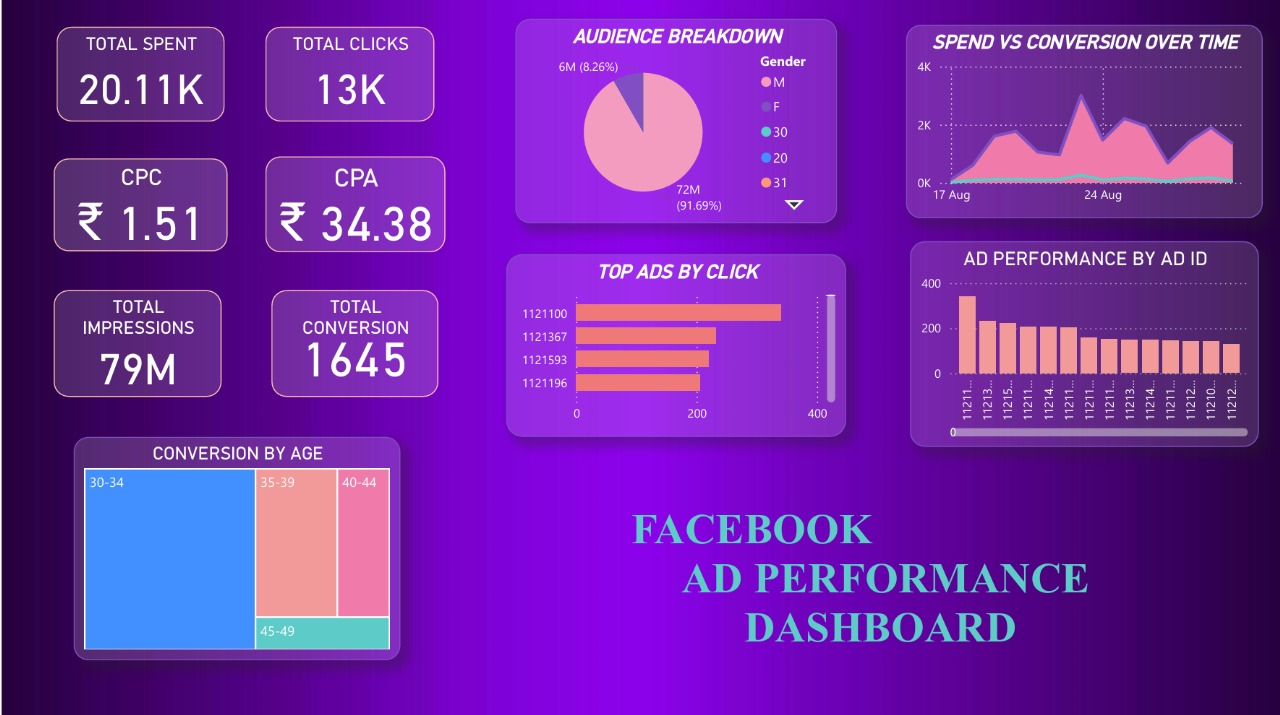

The dashboard page shown, as its layout file describes it:
{"tool":"powerbi","page":{"name":"Page 1","canvas":[1280,720],"ordinal":0},"visuals":[{"type":"card","title":"TOTAL SPENT","fields":{"Values":["Sum(data.spent)"]},"box":[55,28,168,95],"z":0},{"type":"card","title":"TOTAL IMPRESSIONS","fields":{"Values":["Sum(data.impressions)"]},"box":[52,292,168,107],"z":1000},{"type":"card","title":"TOTAL CLICKS","fields":{"Values":["Sum(data.clicks)"]},"box":[264,28,169,95],"z":2000},{"type":"card","title":"TOTAL CONVERSION","fields":{"Values":["Sum(data.total_conversion)"]},"box":[270,292,167,107],"z":3000},{"type":"card","title":"CPC","fields":{"Values":["data.CPC"]},"box":[52,160,174,93],"z":4000},{"type":"clusteredBarChart","title":"TOP ADS BY CLICK","fields":{"Category":["data.ad_id"],"Y":["Sum(data.clicks)"]},"box":[505,256,340,183],"z":5000},{"type":"lineChart","title":"SPEND VS CONVERSION OVER TIME","fields":{"Category":["data.reporting_start.Variation.Date Hierarchy.Year","data.reporting_start.Variation.Date Hierarchy.Quarter","data.reporting_start.Variation.Date Hierarchy.Month","data.reporting_start.Variation.Date Hierarchy.Day"],"Y":["Sum(data.spent)","Sum(data.total_conversion)"]},"box":[905,26,357,194],"z":6000},{"type":"columnChart","title":"AD PERFORMANCE BY AD ID","fields":{"Category":["data.ad_id"],"Y":["Sum(data.clicks)"]},"box":[909,243,349,206],"z":7000},{"type":"pieChart","title":"AUDIENCE BREAKDOWN","fields":{"Category":["data.gender"],"Y":["Sum(data.impressions)"]},"box":[514,20,322,205],"z":8000},{"type":"card","title":"CPA","fields":{"Values":["data.CPA"]},"box":[264,158,180,96],"z":9000},{"type":"treemap","title":"CONVERSION BY AGE","fields":{"Group":["data.age"],"Values":["Sum(data.approved_conversion)"]},"box":[72,439,327,224],"z":9001},{"type":"textbox","box":[624.9,501.9,518.8,160.5],"z":9002}]}

Visuals, with their boxes in screenshot pixels (x1, y1, x2, y2), scaled from the page's 1280x720 canvas onto the 1280x715 screenshot:
"TOTAL SPENT" card: bbox(55, 28, 223, 122)
"TOTAL IMPRESSIONS" card: bbox(52, 290, 220, 396)
"TOTAL CLICKS" card: bbox(264, 28, 433, 122)
"TOTAL CONVERSION" card: bbox(270, 290, 437, 396)
"CPC" card: bbox(52, 159, 226, 251)
"TOP ADS BY CLICK" clusteredBarChart: bbox(505, 254, 845, 436)
"SPEND VS CONVERSION OVER TIME" lineChart: bbox(905, 26, 1262, 218)
"AD PERFORMANCE BY AD ID" columnChart: bbox(909, 241, 1258, 446)
"AUDIENCE BREAKDOWN" pieChart: bbox(514, 20, 836, 223)
"CPA" card: bbox(264, 157, 444, 252)
"CONVERSION BY AGE" treemap: bbox(72, 436, 399, 658)
textbox: bbox(625, 498, 1144, 658)
